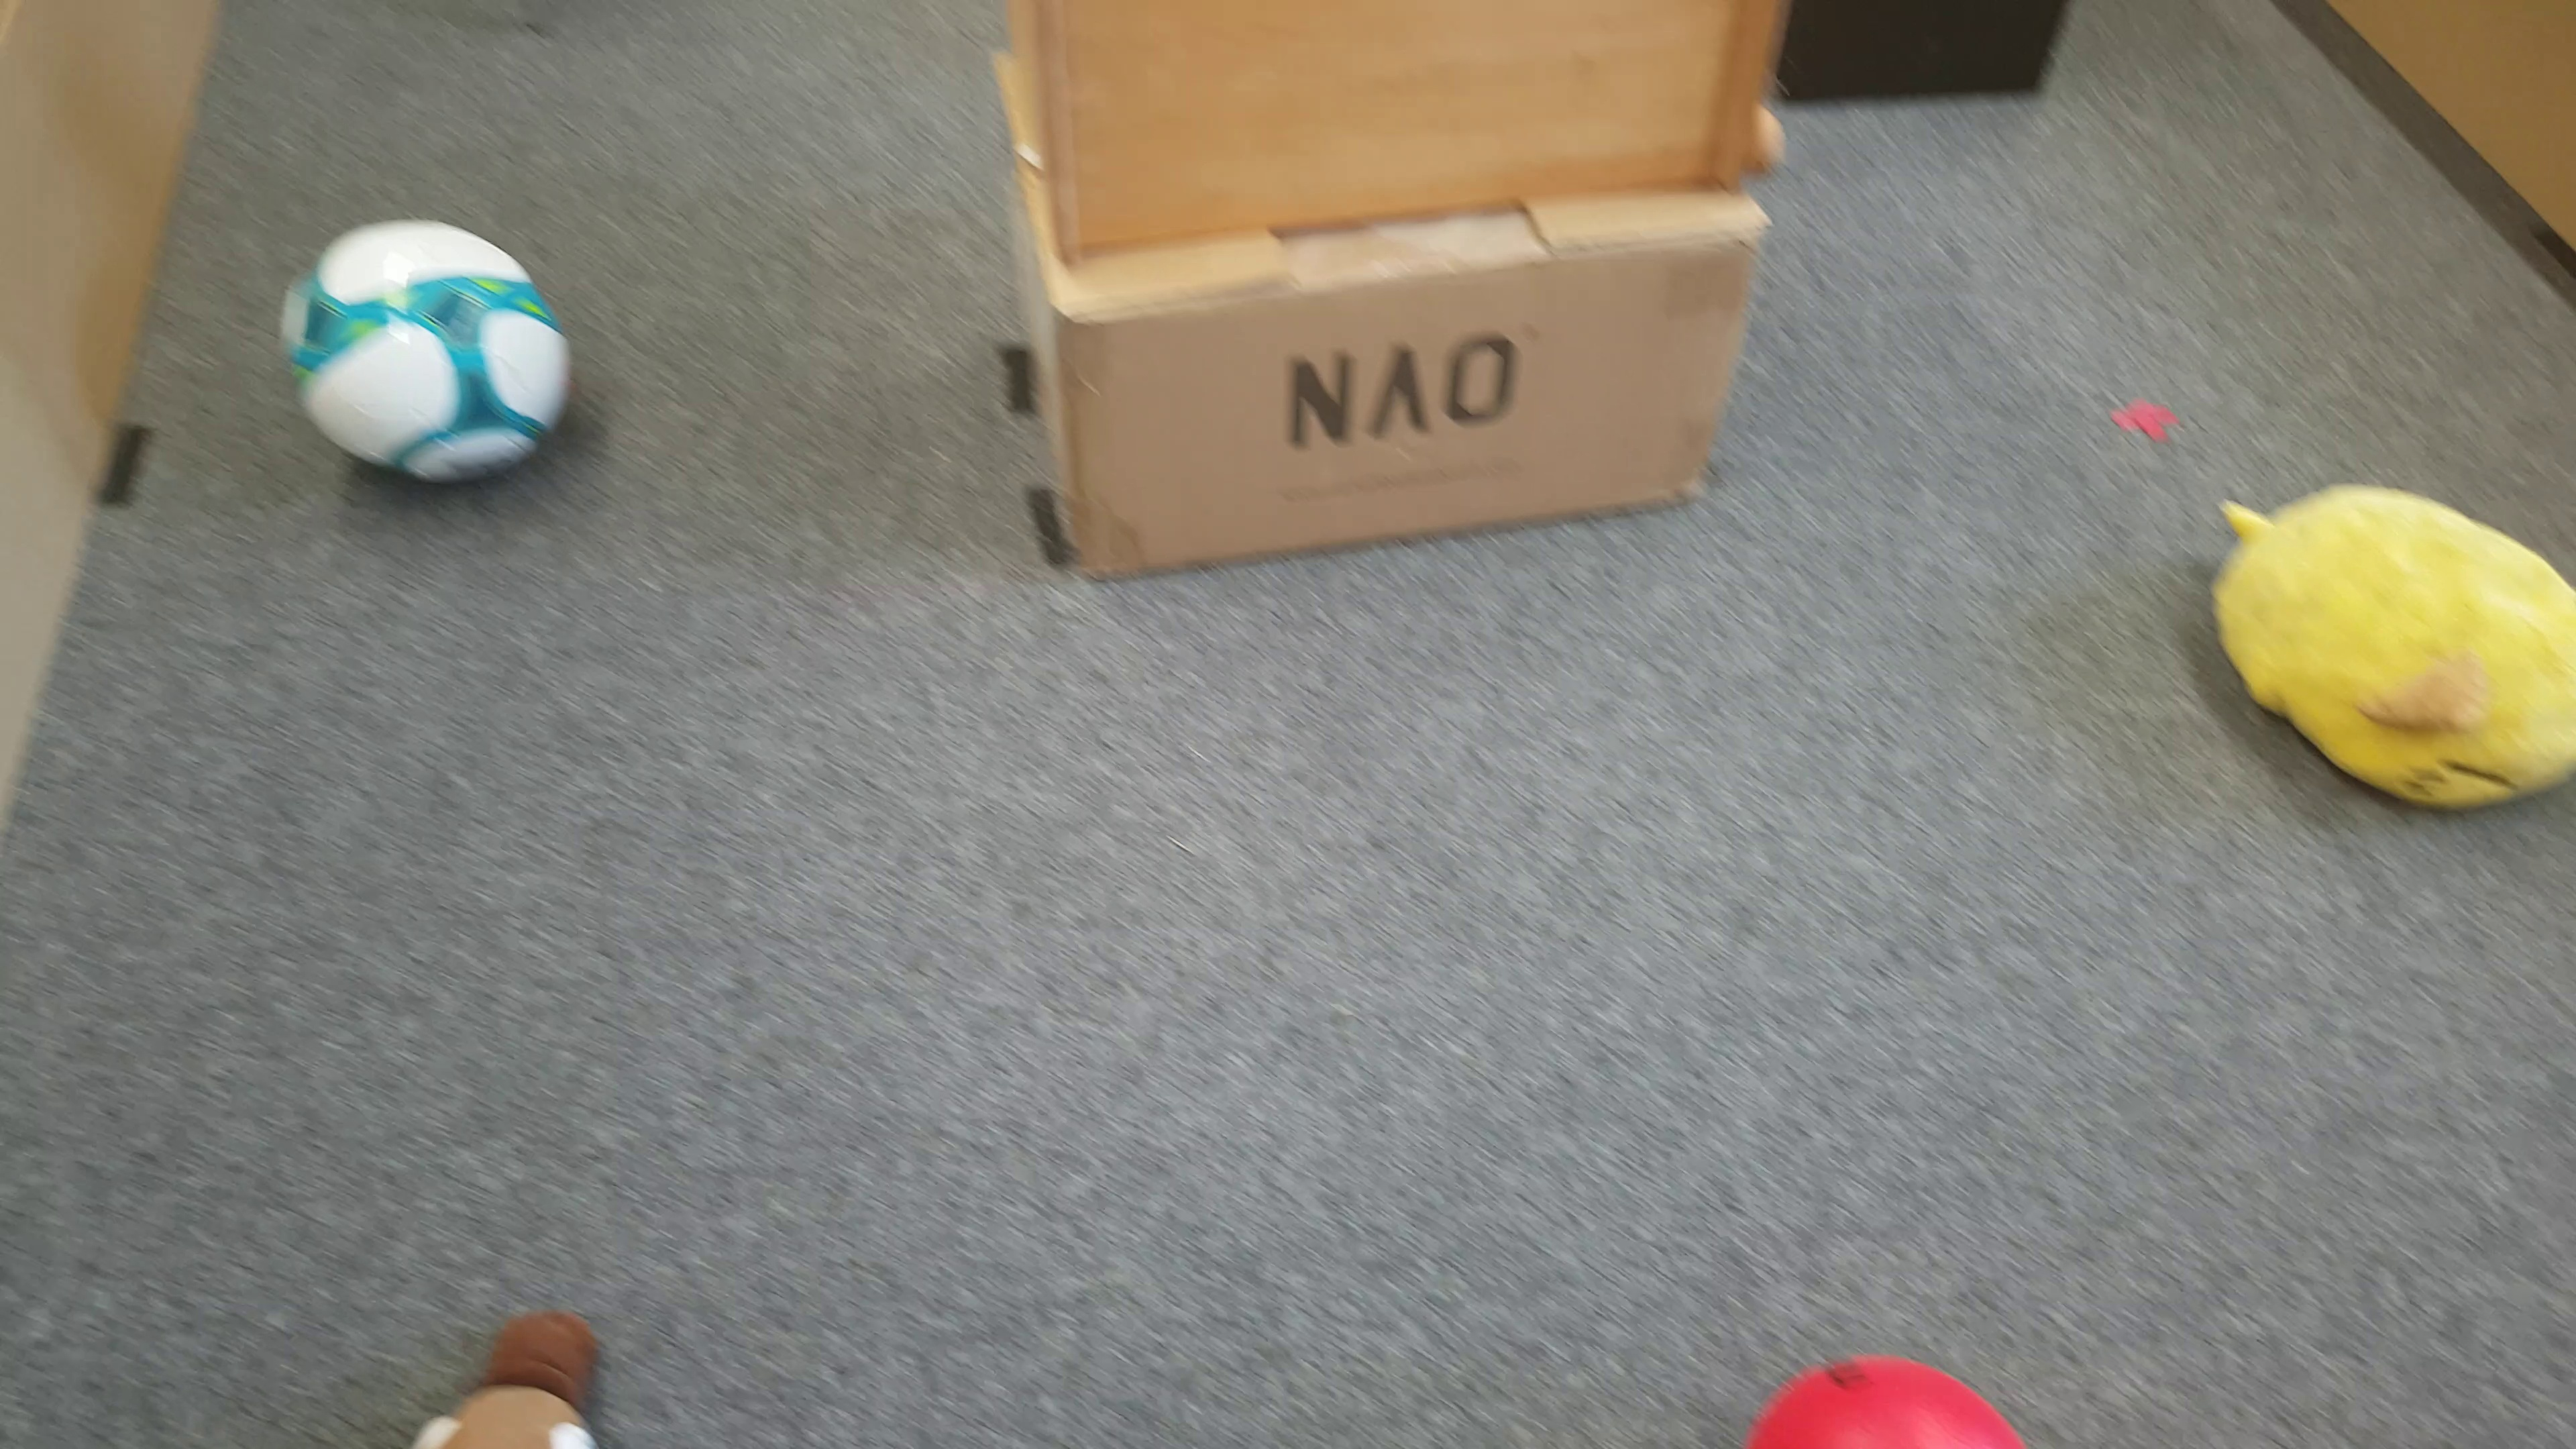grasp: (2206, 479, 2576, 819), (368, 1316, 603, 1449)
kick: (281, 211, 573, 492), (1739, 1357, 2031, 1449)
